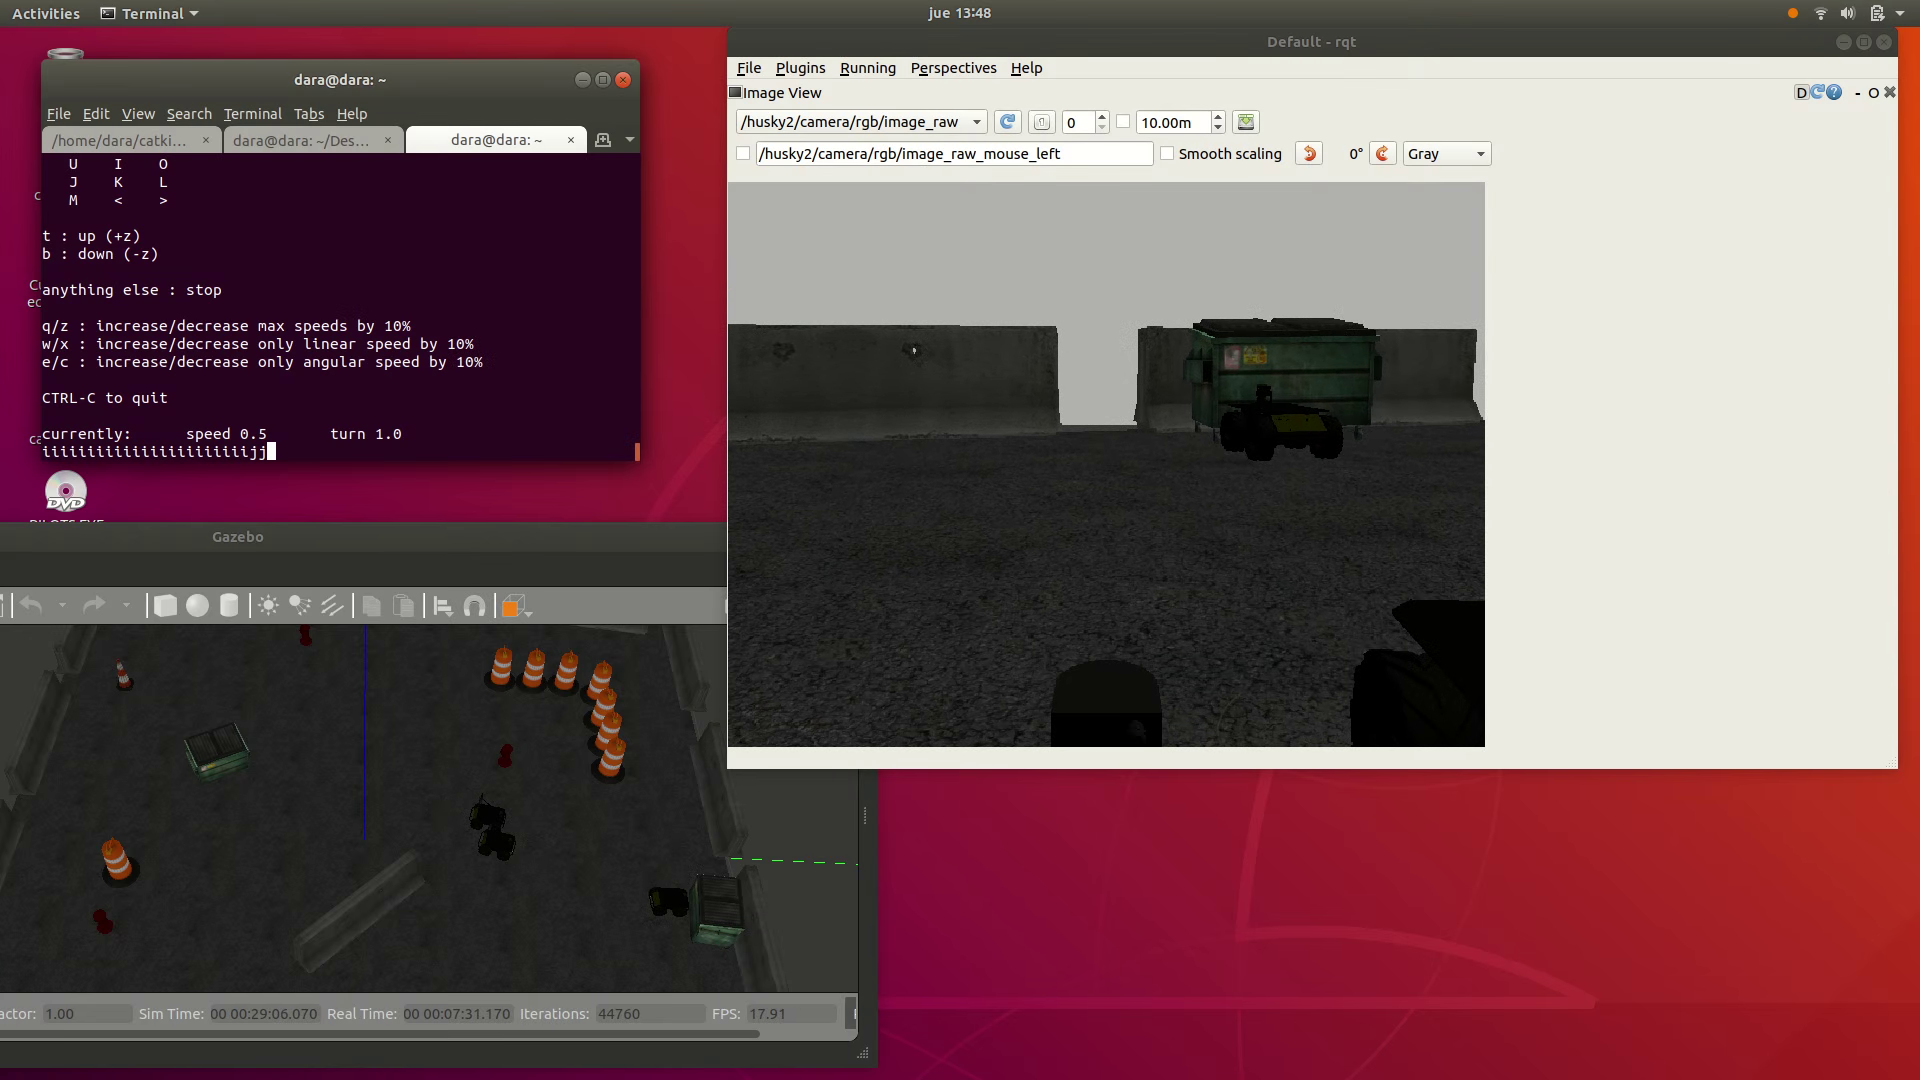husky: (1219, 400, 1343, 462), (648, 886, 691, 918), (477, 829, 517, 862), (468, 803, 507, 835)
